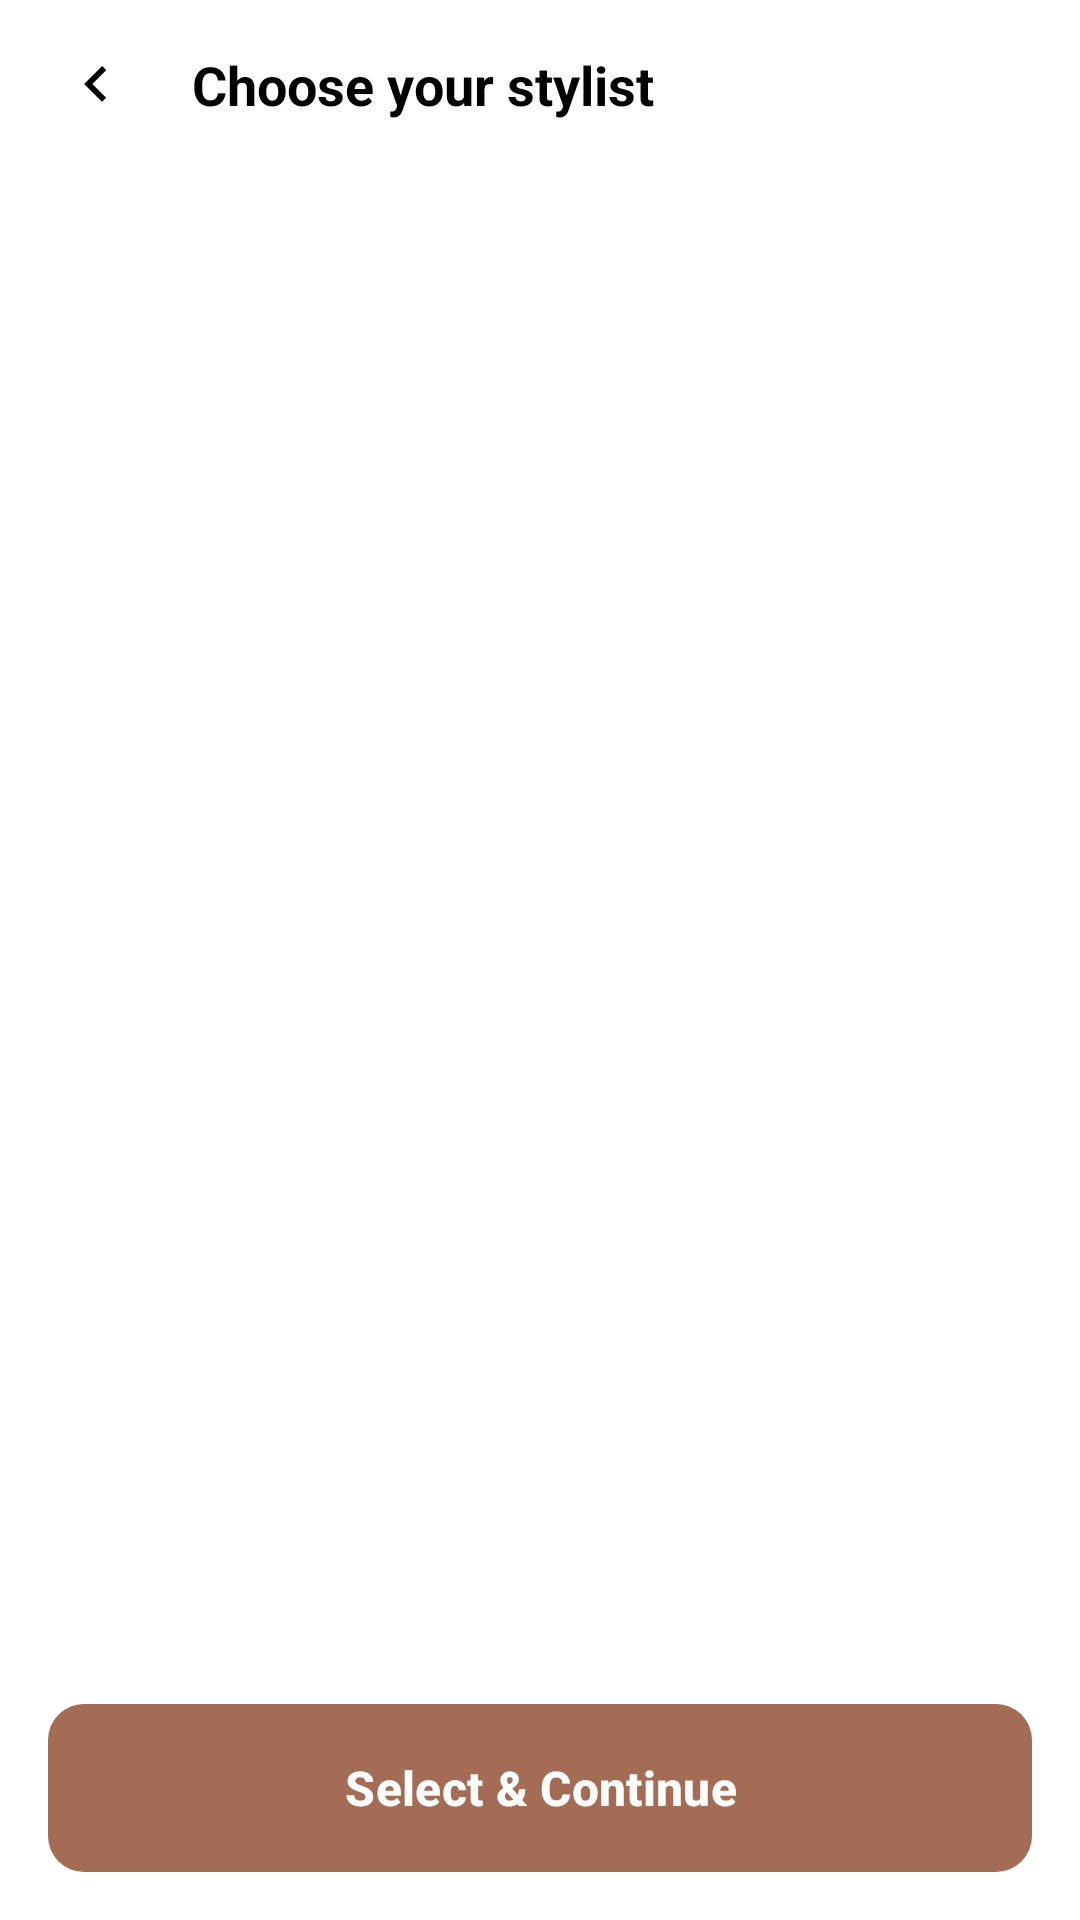

Icons on this 1080 × 1920 Android screen, each with the point to tap as [x,y]:
back: [95,84]
